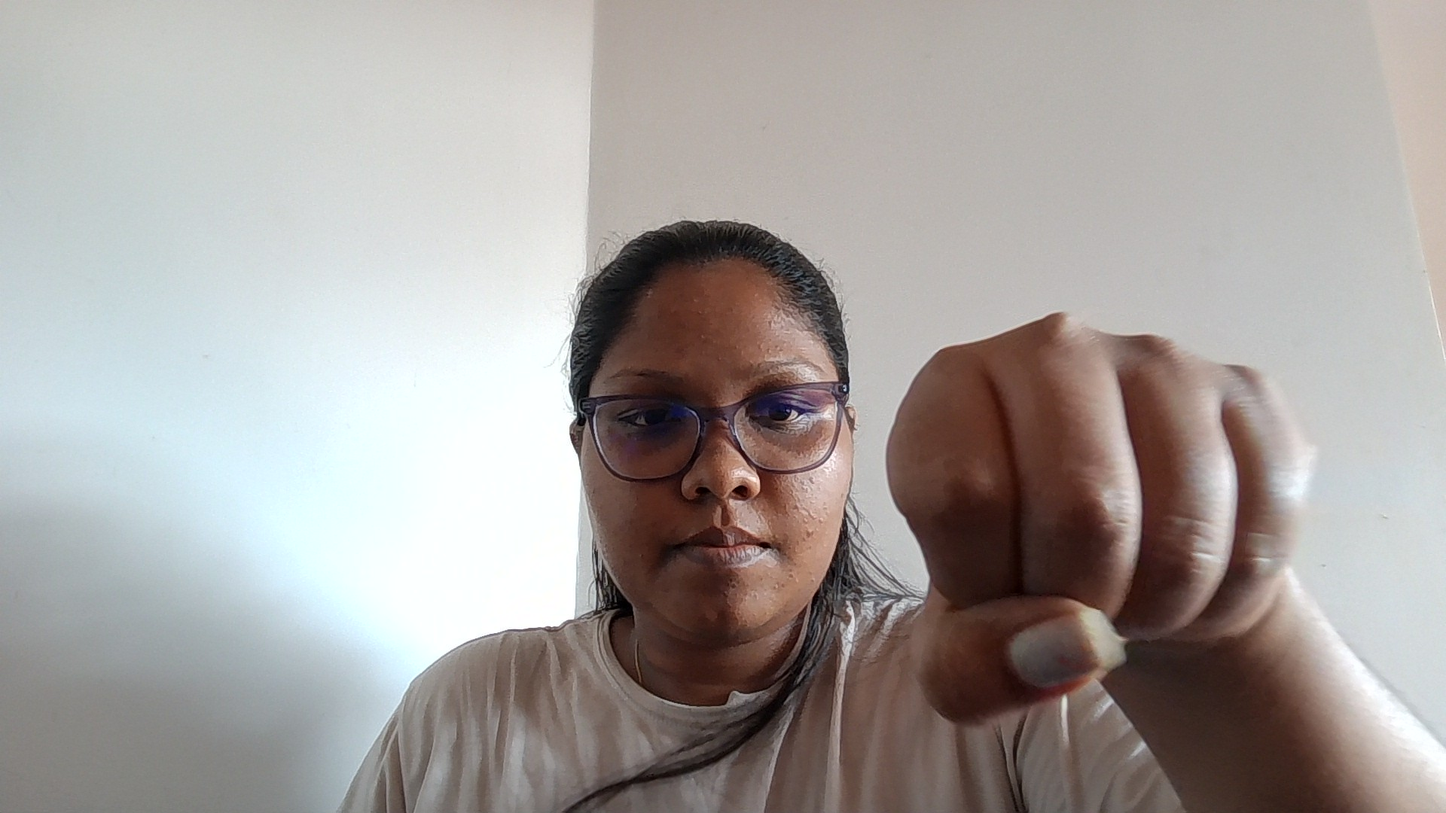Yes: (902, 282, 1359, 757)
